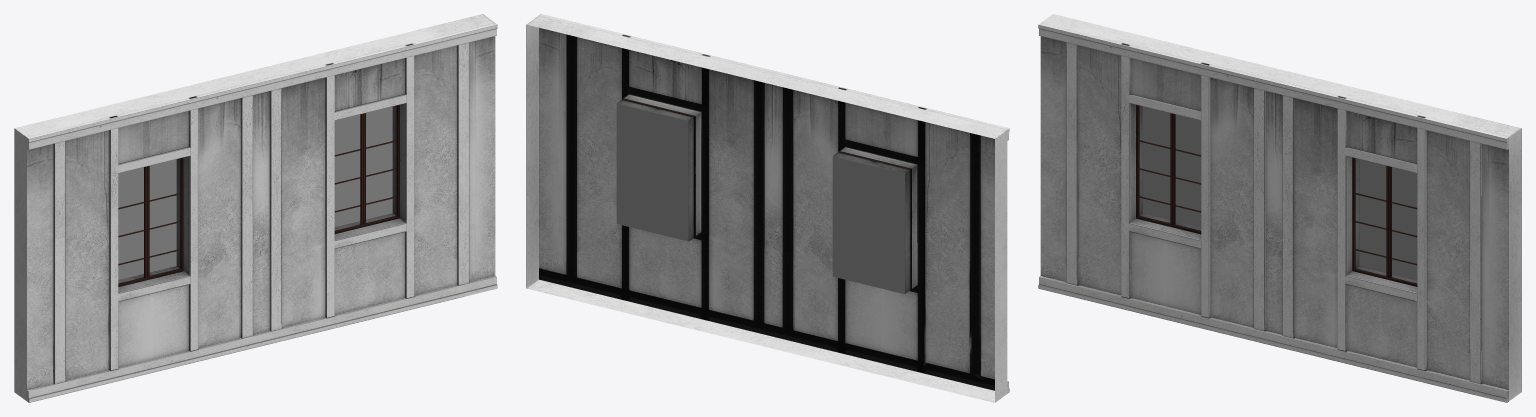
The model's file is floorsecond_1.glb.
The picture shows the model from 3 angles, left to right: view 1: azimuth 30°, elevation 25°; view 2: azimuth 150°, elevation 25°; view 3: azimuth 330°, elevation 25°; orthographic projection.
Parts seen in each view (by area): view 1: floorsecond_1; view 2: floorsecond_1; view 3: floorsecond_1.
Boxes of the visible parts, <box> form: floorsecond_1: <box>14,14,497,402</box>; floorsecond_1: <box>526,14,1009,402</box>; floorsecond_1: <box>1038,14,1521,402</box>.
Size of the model in its own units: 6.5 by 3.5 by 0.3508.
Materials: 3 (2 with a texture image).
